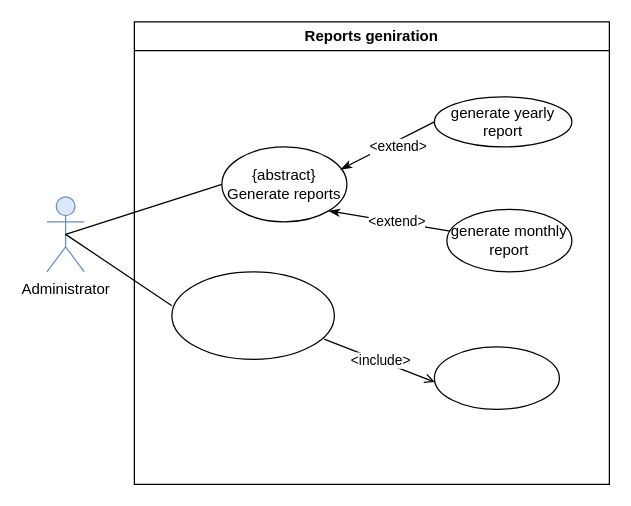
This 631x506 diagram has some shape labels left out. Each missing label, with the centre of its shape:
"display on the website" goes at (496,377).
"generate patients prediction report" goes at (252,315).
